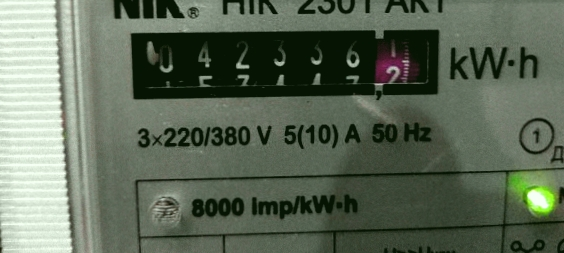0: (155, 41, 174, 75)
1: (385, 33, 397, 59)
2: (231, 37, 252, 71), (382, 64, 399, 85)
3: (268, 35, 286, 67), (307, 35, 324, 67)
4: (195, 37, 212, 69)
6: (342, 36, 362, 71)
screen: (117, 16, 453, 110)
